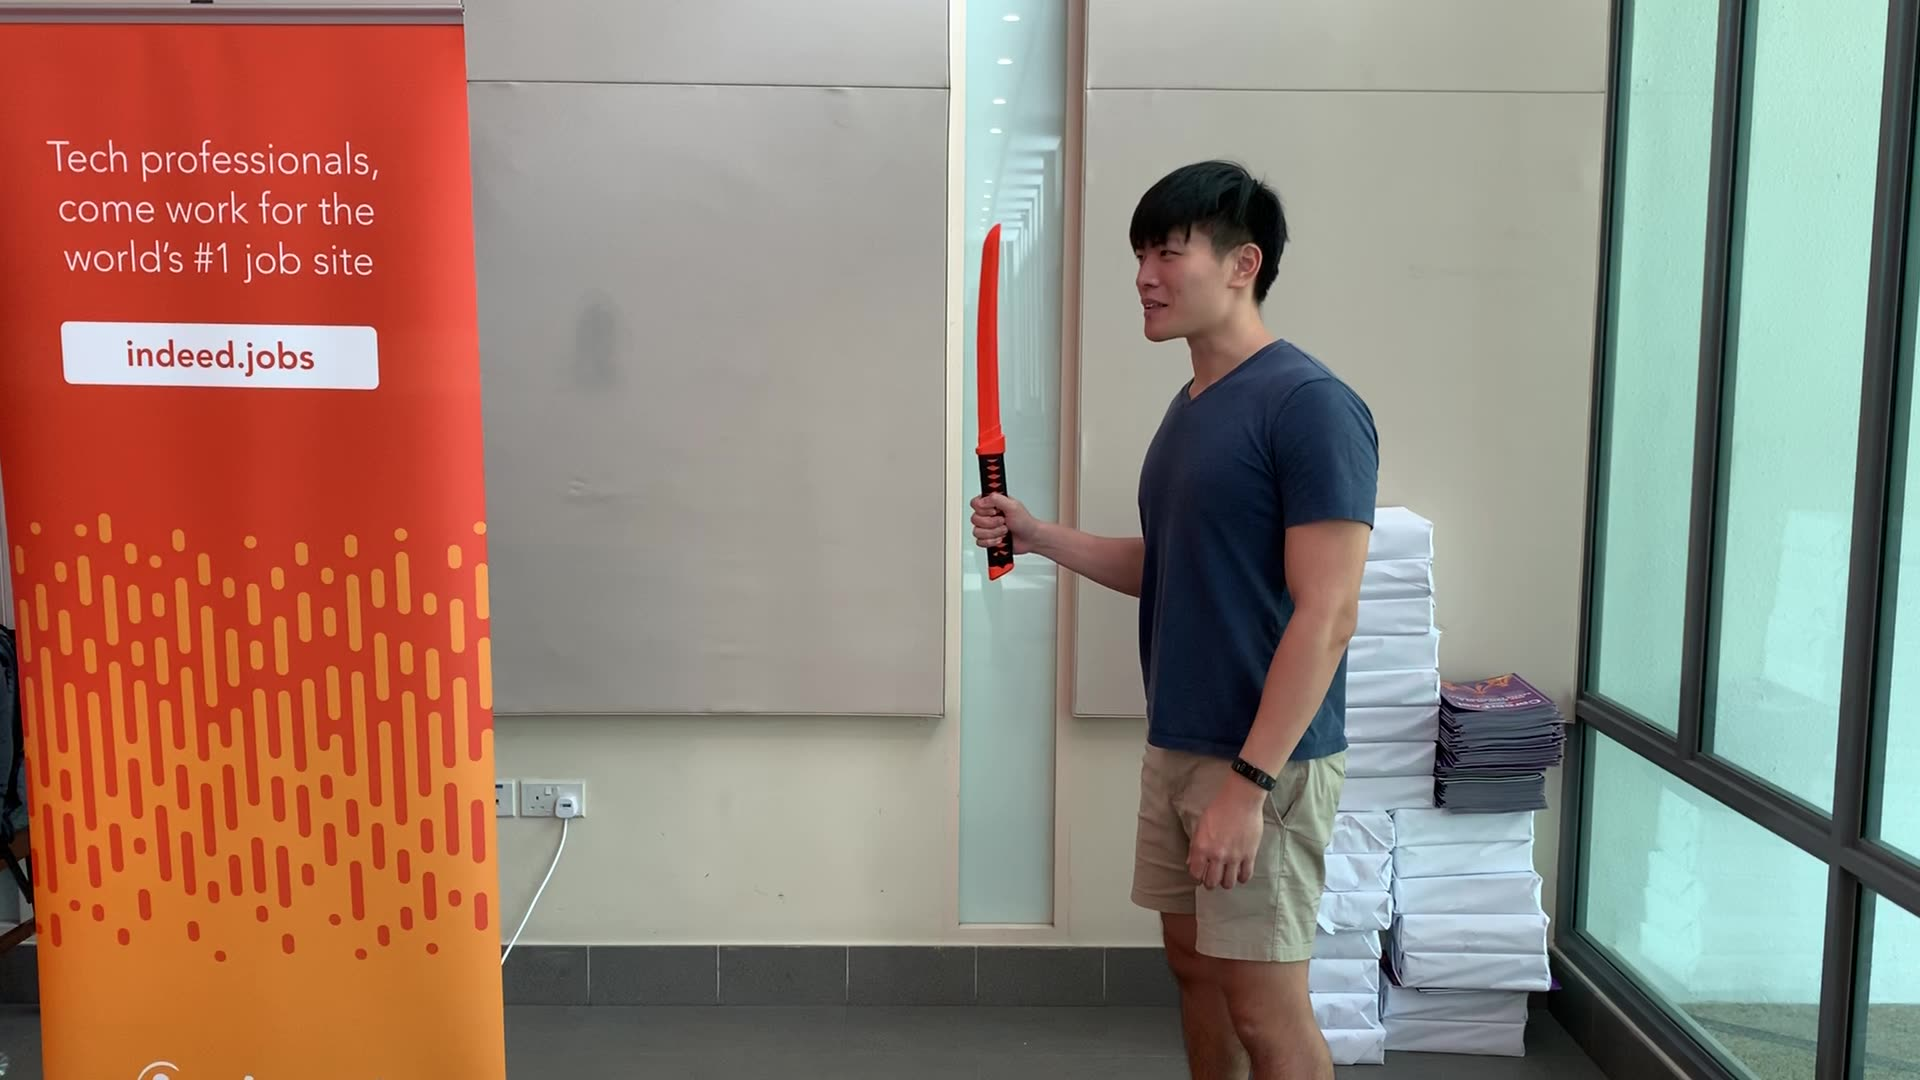knife: (972, 218, 1029, 587)
